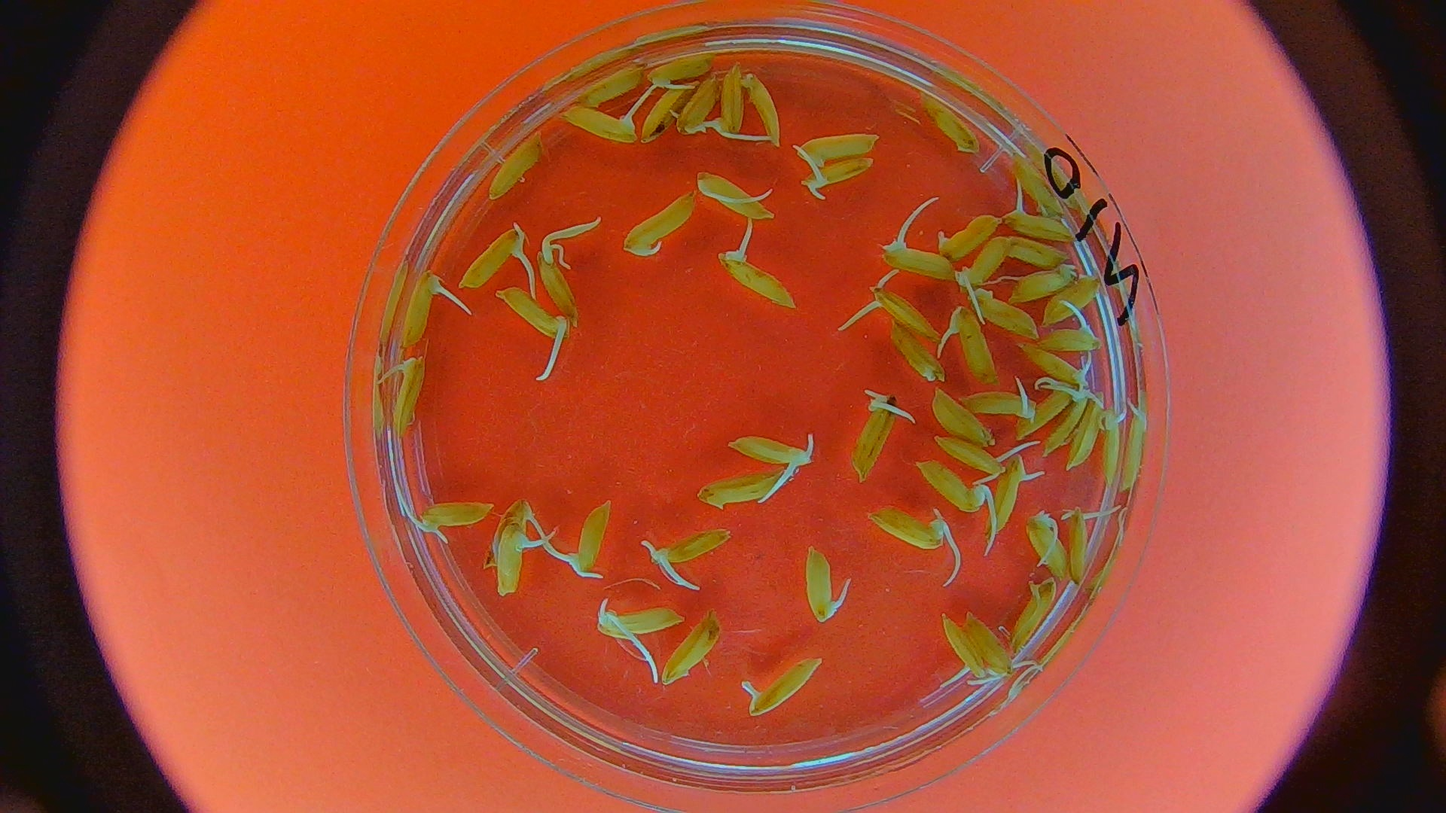no: (487, 124, 548, 201), (1001, 151, 1066, 220), (915, 89, 982, 155), (657, 615, 721, 682), (966, 287, 1041, 340), (929, 389, 994, 450), (962, 609, 1019, 678), (642, 78, 700, 144), (487, 493, 533, 568), (886, 324, 944, 382), (938, 618, 989, 683), (795, 132, 879, 170), (1039, 278, 1104, 322), (679, 76, 722, 142), (696, 474, 777, 508), (581, 63, 645, 106), (1004, 235, 1068, 271)
yes: (917, 455, 999, 516), (396, 269, 458, 348), (459, 222, 525, 288), (945, 304, 999, 384), (869, 284, 943, 342), (624, 193, 692, 254), (866, 504, 947, 553), (751, 653, 819, 711), (498, 290, 570, 342), (880, 238, 960, 284), (853, 395, 899, 474), (1017, 339, 1091, 388), (1016, 379, 1073, 442), (721, 253, 790, 305), (698, 174, 776, 219), (388, 355, 429, 440), (563, 102, 641, 145), (988, 455, 1029, 536), (1014, 574, 1058, 649), (742, 72, 784, 149), (538, 246, 579, 324), (725, 434, 811, 470), (933, 214, 999, 260), (935, 434, 1009, 475), (955, 237, 1010, 292), (1025, 513, 1068, 582), (599, 604, 681, 639), (712, 62, 748, 140), (999, 204, 1072, 242), (1065, 400, 1103, 473), (648, 53, 718, 91), (570, 510, 608, 580), (497, 527, 532, 602), (961, 391, 1038, 424), (416, 501, 491, 534), (1065, 501, 1095, 583), (654, 531, 733, 562), (804, 550, 837, 623), (1051, 394, 1088, 459), (1040, 316, 1100, 354), (1010, 267, 1079, 300), (803, 157, 869, 190), (1102, 407, 1129, 480)
